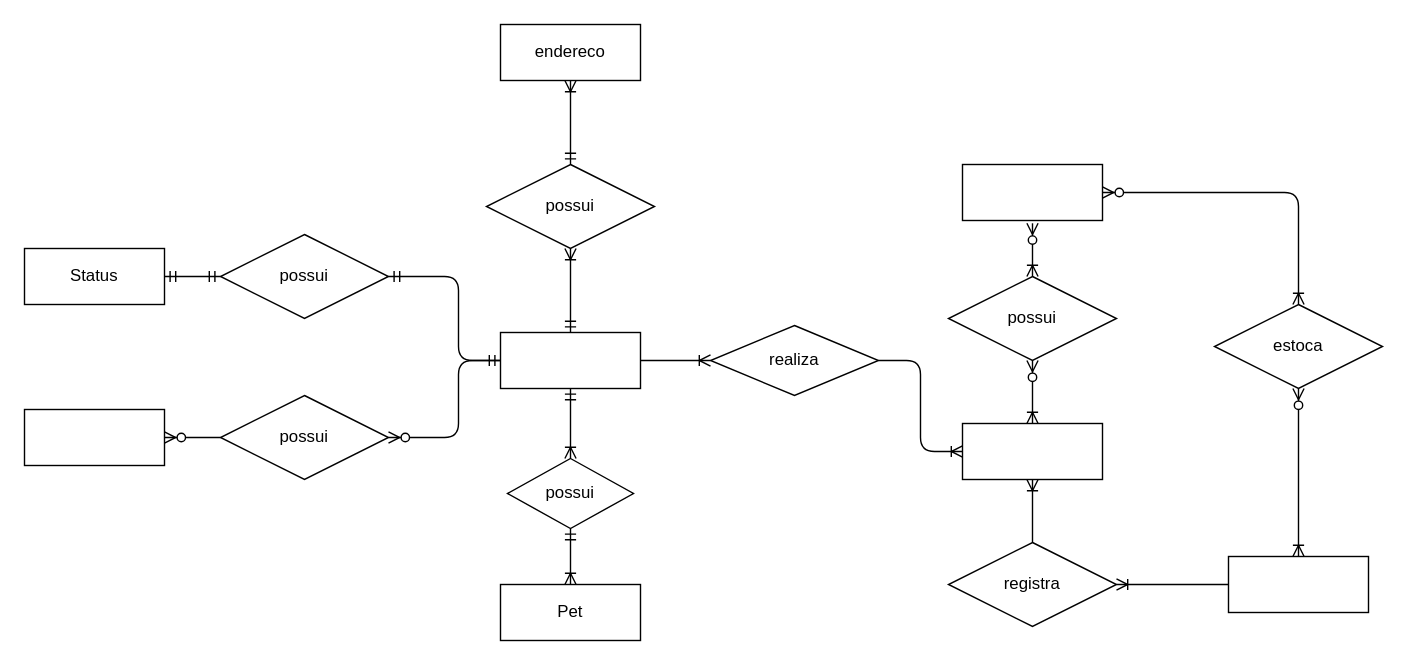
This 1407x665 diagram has some shape labels left out. Here are the shapes that lost their labels. From the top down, the centre of each, then its label:
the point at 1031,191: Produto
the point at 569,359: Cliente
the point at 93,436: Responsável
the point at 1031,450: Transação
the point at 1297,583: Unidade
